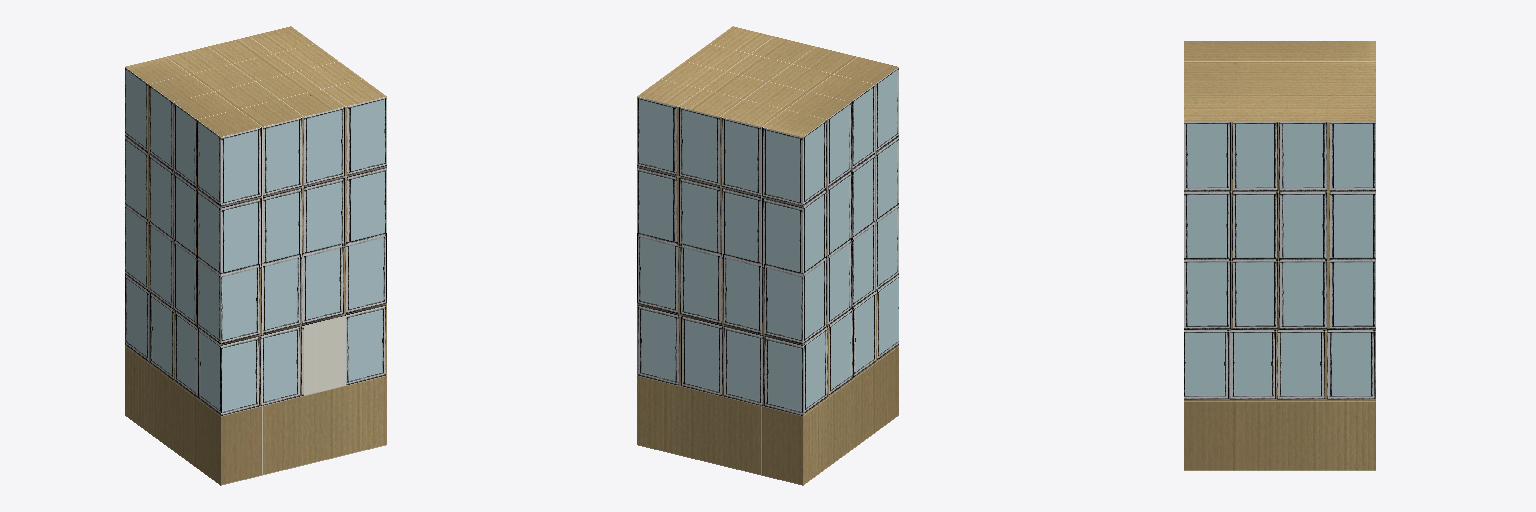
3 views of the same model, side by side, from view 1: azimuth 30°, elevation 25°; view 2: azimuth 150°, elevation 25°; view 3: azimuth 270°, elevation 25° (orthographic).
Visible parts, largest first — view 1: pCube121; view 2: pCube121; view 3: pCube121.
Boxes of the visible parts, x1,y1,x2,y2 form: pCube121: [125, 26, 386, 485]; pCube121: [637, 26, 898, 485]; pCube121: [1184, 41, 1375, 470].
Bounding box in the file's own units: 300 × 600 × 300.
1 materials, 1 textured.